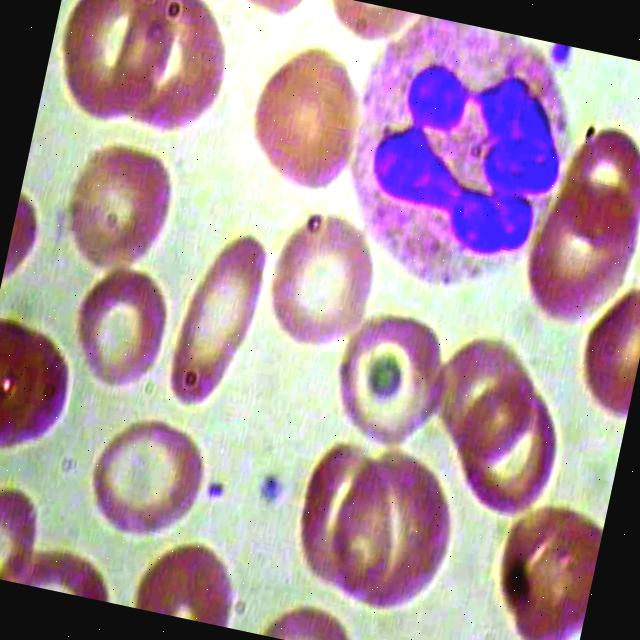Platelets: (251, 465, 291, 513), (546, 42, 576, 75)
RBC: (322, 439, 484, 630), (228, 30, 378, 207), (157, 213, 277, 424), (72, 400, 224, 563), (314, 302, 464, 459), (53, 125, 192, 282), (282, 430, 408, 602), (36, 0, 187, 143), (251, 200, 388, 356), (511, 181, 640, 345), (448, 381, 574, 523), (60, 251, 184, 395), (0, 312, 94, 481), (544, 111, 640, 257)
WBC: (307, 2, 591, 314)
